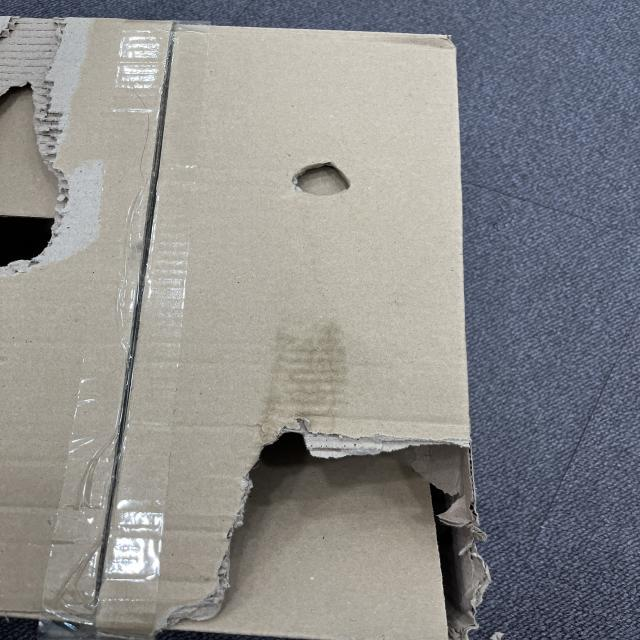hole: (178, 406, 501, 629), (0, 213, 78, 272), (283, 156, 362, 204)
